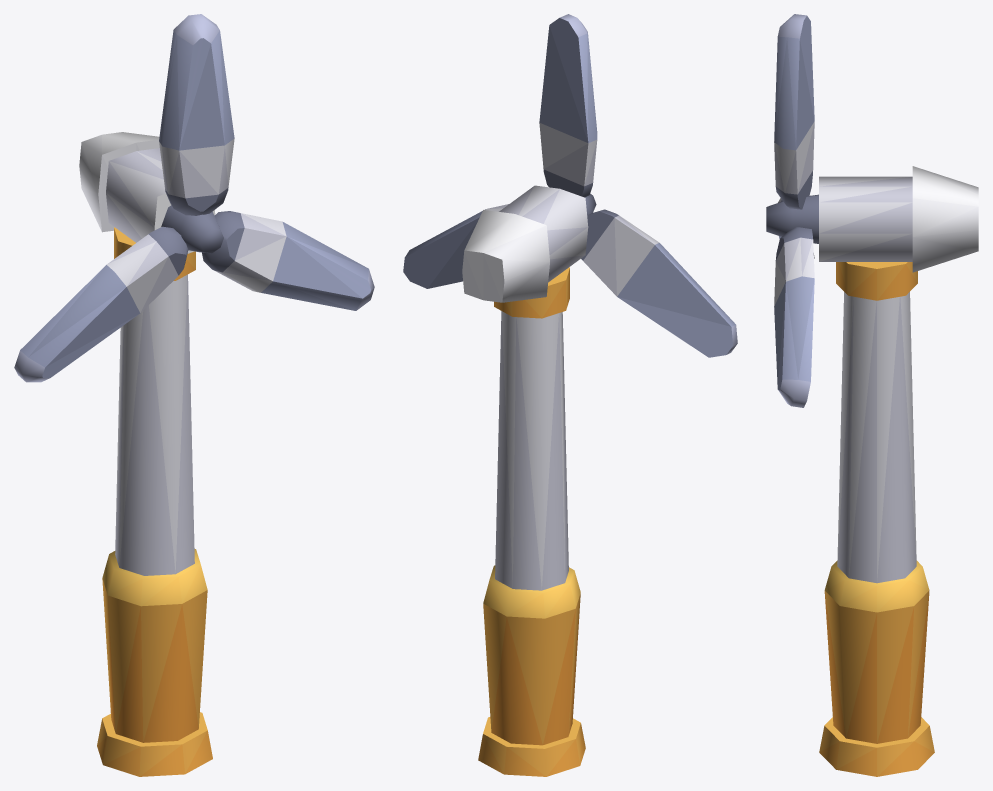
3 renders of one model, left to right at view 1: azimuth 30°, elevation 25°; view 2: azimuth 150°, elevation 25°; view 3: azimuth 270°, elevation 25°, orthographic. The views are drawn at different scales.
Parts seen in each view (by area): view 1: windmill, blades; view 2: windmill, blades; view 3: windmill, blades.
Part boxes in pixels (box(x1,y1,x2,y2)): windmill: box(79, 132, 223, 776); blades: box(14, 14, 374, 382); windmill: box(462, 185, 596, 776); blades: box(403, 14, 737, 357); windmill: box(766, 166, 978, 776); blades: box(774, 14, 814, 407).
Bounding box in the file's own units: 29.22 × 60 × 15.68.
